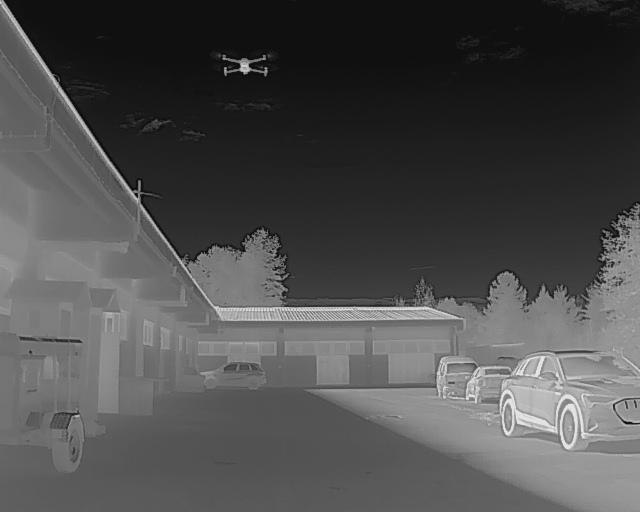drone: (208, 45, 277, 87)
